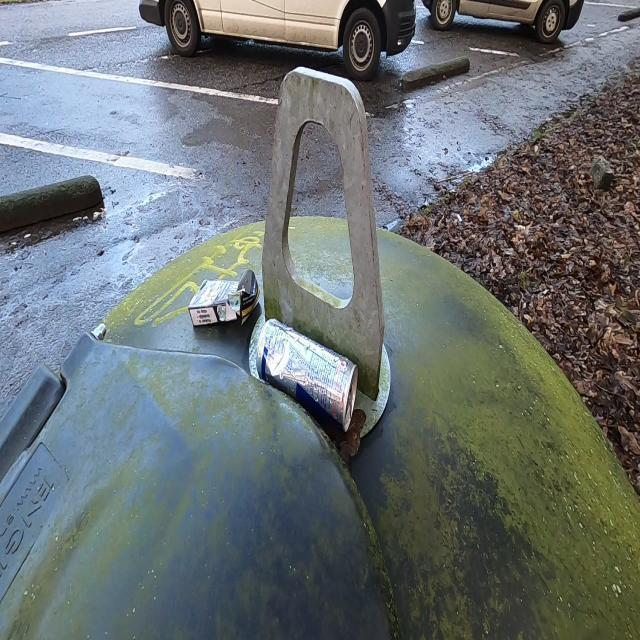Can-Metal: (255, 316, 360, 434)
Paper: (187, 268, 261, 328)
